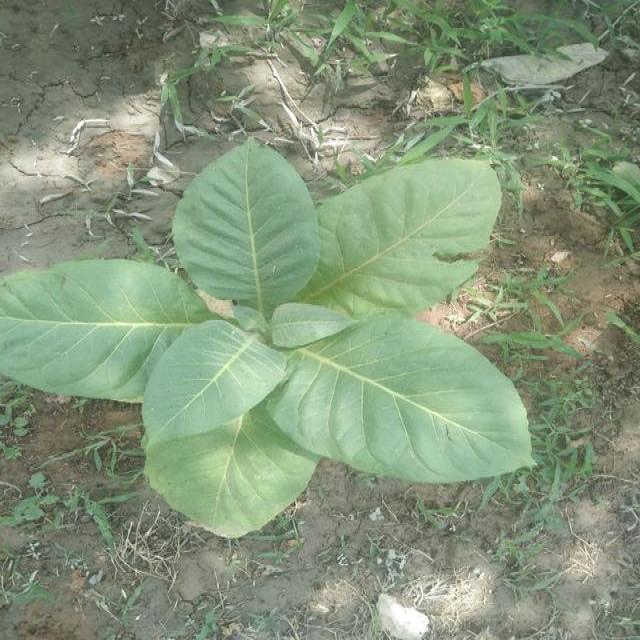crop: (6, 143, 538, 530)
